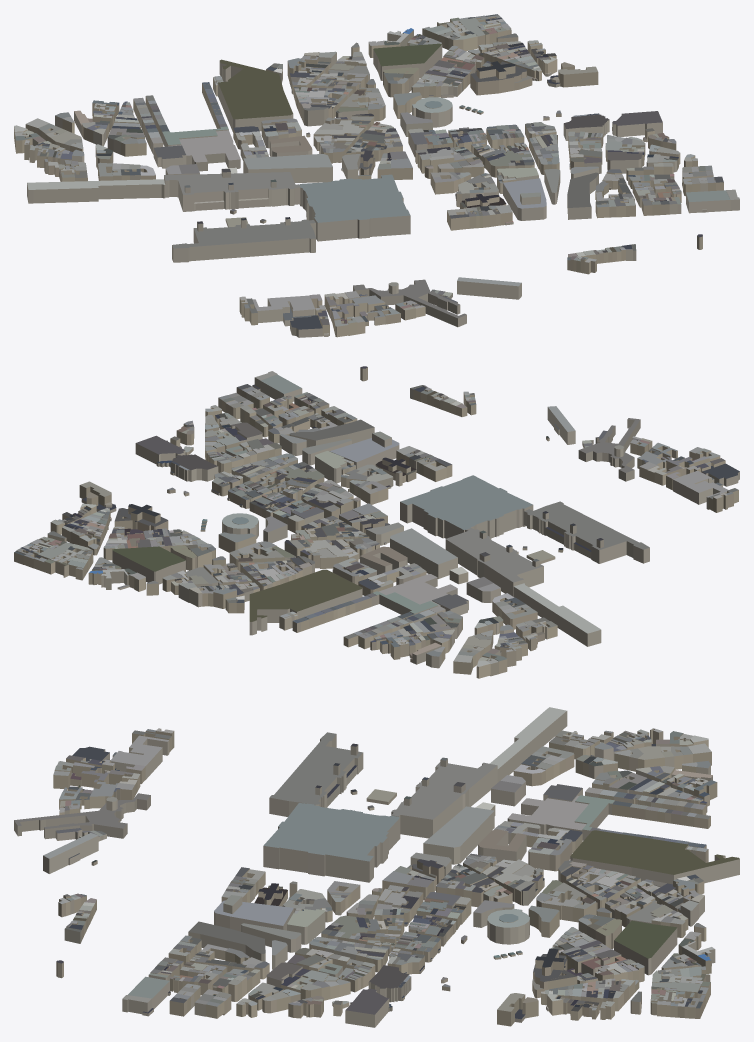
The picture shows the model from 3 angles, top to bottom: view 1: azimuth 30°, elevation 25°; view 2: azimuth 150°, elevation 25°; view 3: azimuth 270°, elevation 25°; orthographic projection. The views are drawn at different scales.
Visible parts, largest first — view 1: tuile; view 2: tuile; view 3: tuile.
Boxes of the visible parts, box(x1,y1,x2,y2) form: tuile: box(14, 14, 739, 337); tuile: box(14, 366, 739, 678); tuile: box(14, 707, 739, 1027).
Bounding box in the file's own units: 1127 × 49.39 × 1124.
